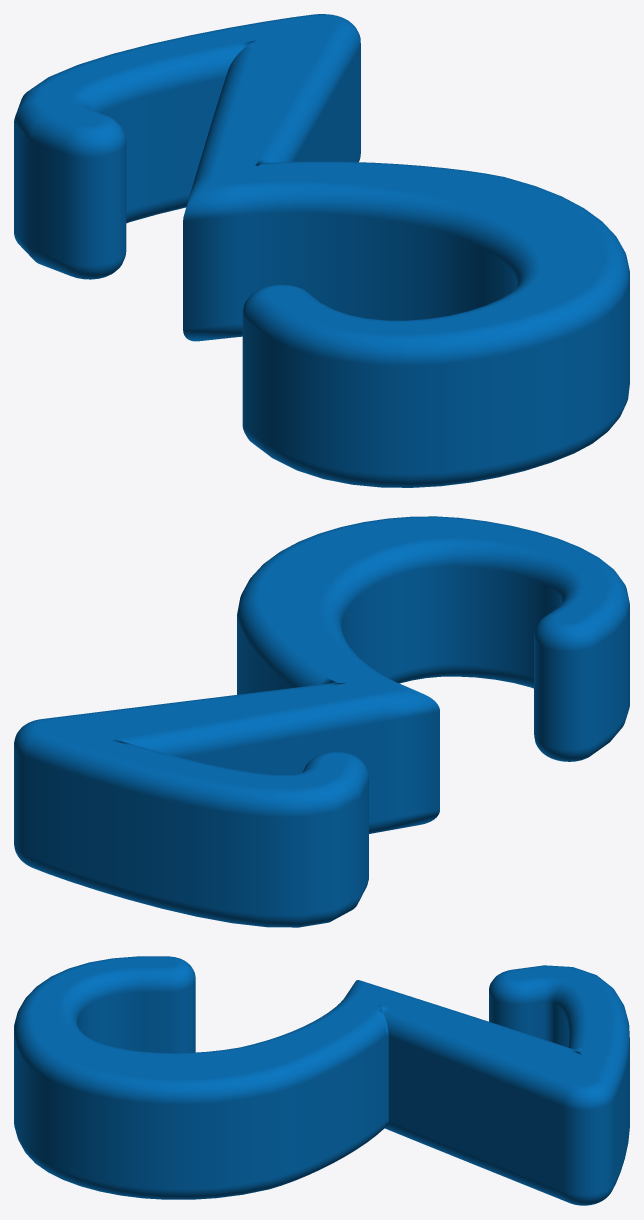
3 renders of one model, top to bottom at view 1: azimuth 30°, elevation 25°; view 2: azimuth 150°, elevation 25°; view 3: azimuth 270°, elevation 25°, orthographic. The views are drawn at different scales.
Parts seen in each view (by area): view 1: 1; view 2: 1; view 3: 1.
Part boxes in pixels (x1,y1,x2,y2): 1: (14, 14, 629, 487); 1: (14, 516, 629, 927); 1: (14, 956, 629, 1205).
Bounding box in the file's own units: 86.72 × 33.4 × 158.
